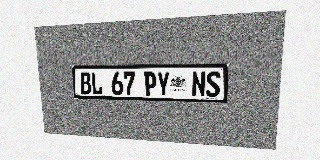6: (111, 72, 123, 95)
7: (123, 72, 135, 95)
B: (80, 72, 92, 94)
L: (91, 72, 103, 94)
N: (192, 71, 206, 97)
P: (144, 72, 157, 96)
S: (206, 71, 221, 97)
Y: (157, 71, 170, 96)
